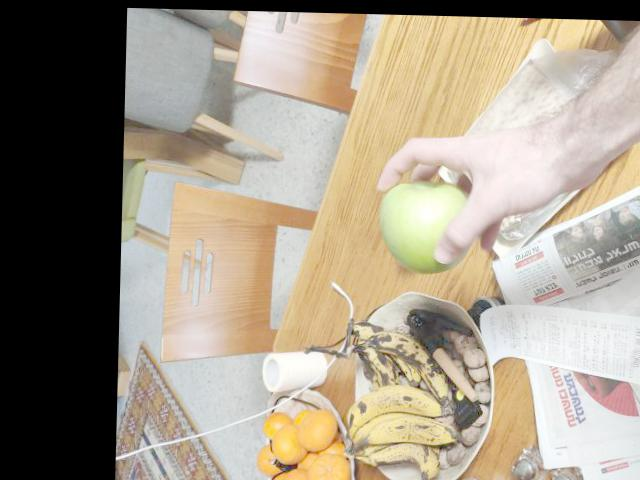apple: (373, 179, 484, 270)
